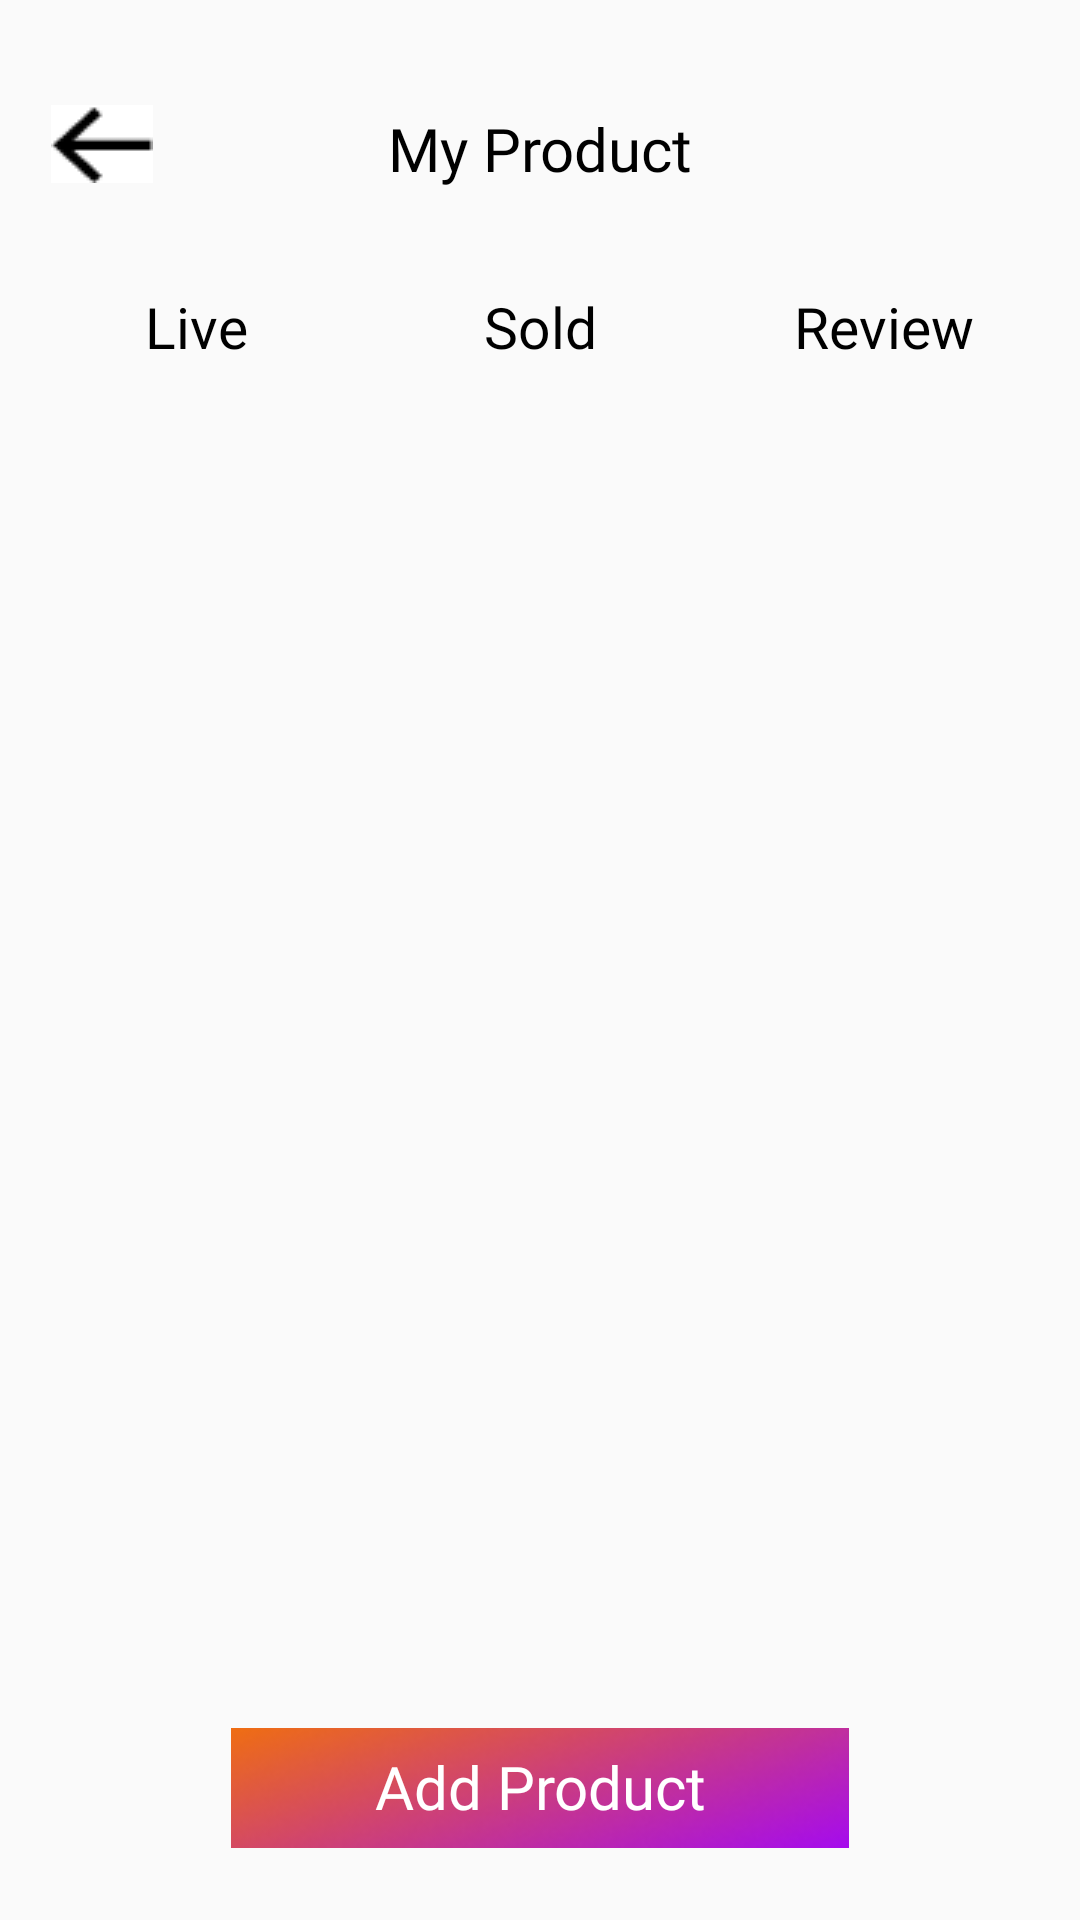

Named icons in this screenshot (1080 × 1920) and their bounding boxes, (x1, y1, x2, y2):
back: (51, 107, 153, 183)
